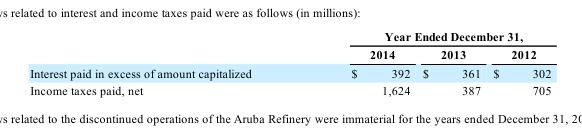table: (29, 29, 550, 97)
table column: (29, 29, 300, 97), (300, 29, 415, 97), (415, 29, 486, 97), (486, 29, 550, 97)
table column header: (29, 29, 550, 63)
table row: (29, 45, 550, 63), (29, 63, 550, 81), (29, 29, 550, 45), (29, 81, 550, 97)
table spanning cell: (300, 29, 550, 45)
